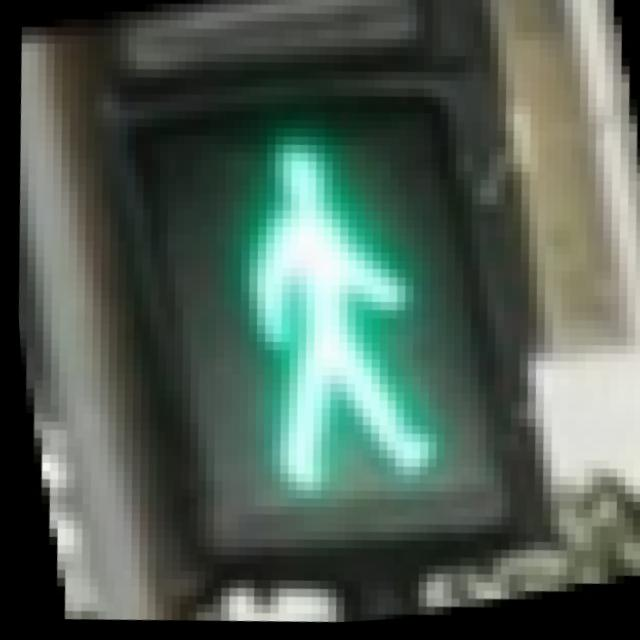green_light: (110, 26, 585, 559)
